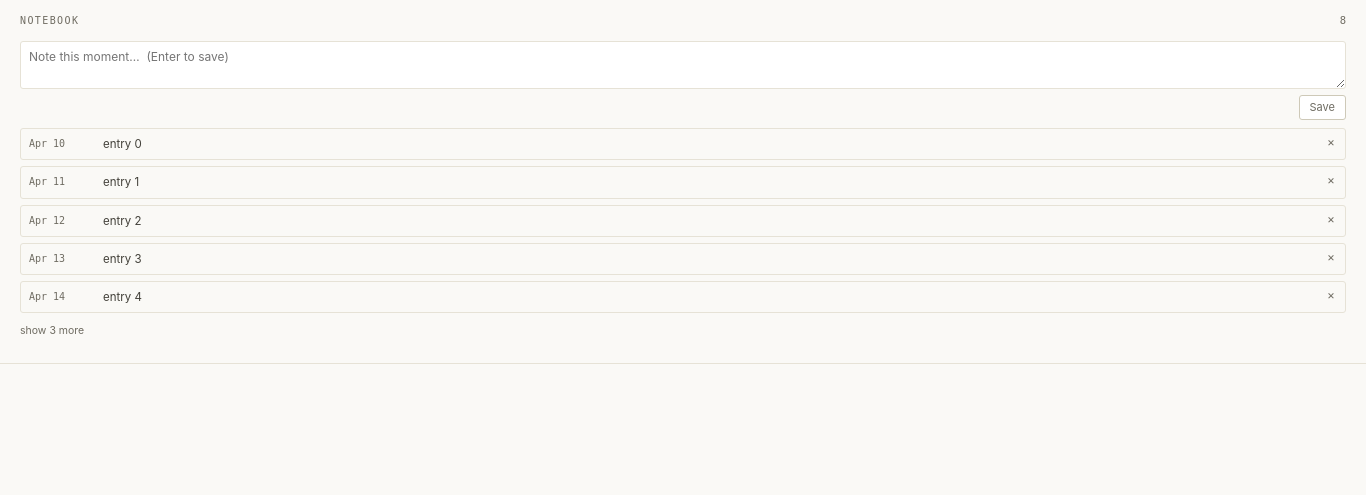
Test case: NotebookPanel — row interactions › collapses to 5 entries by default; show-more reveals the rest
Expected: the text "entry 0" is shown, [103, 137, 142, 151]
Expected: the text "entry 4" is shown, [103, 290, 142, 304]
Toggle on.
Click the button "show 3 more" at (52, 330), box [20, 319, 1346, 343]
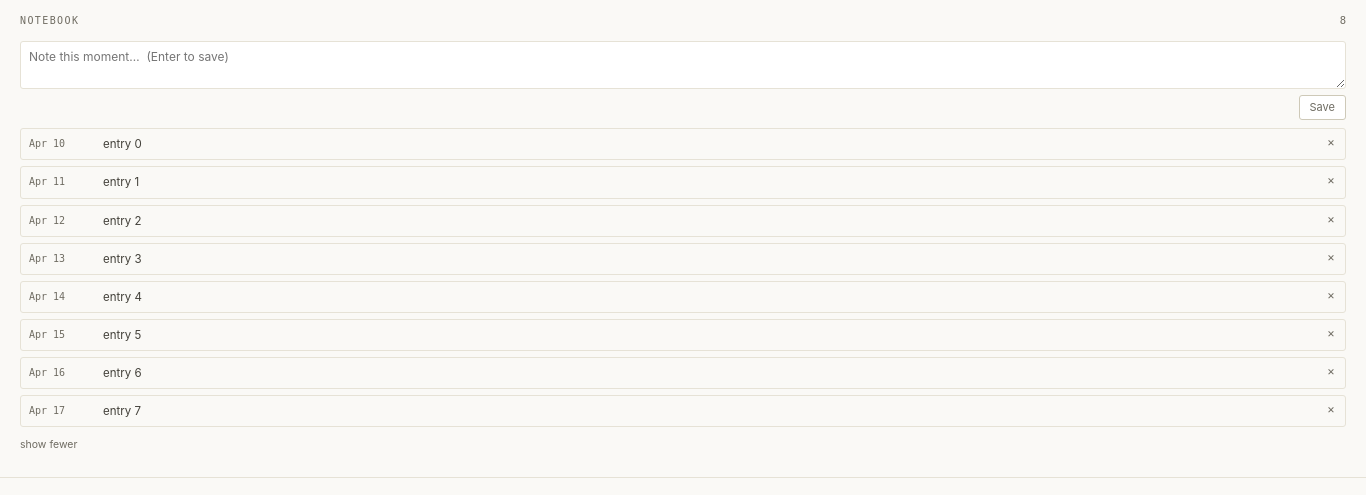
Result: the text "entry 5" is shown at [103, 328, 141, 342]
Result: the text "entry 7" is shown at [103, 404, 141, 418]
Toggle off.
Click the button "show fewer" at (49, 445), box [20, 433, 1346, 457]
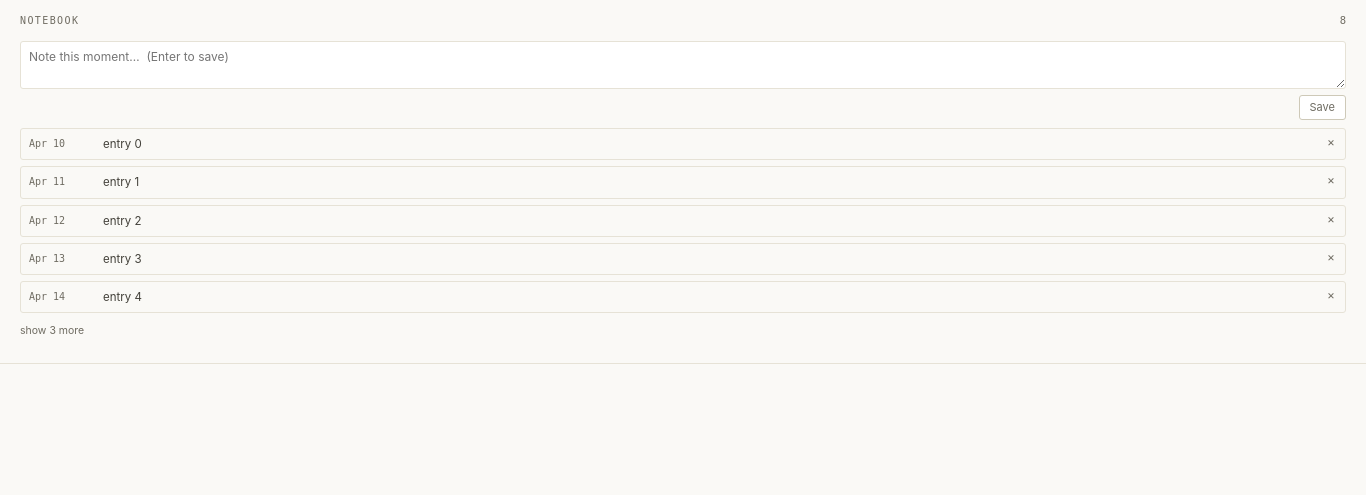
Result: the button "entry 5" is gone
